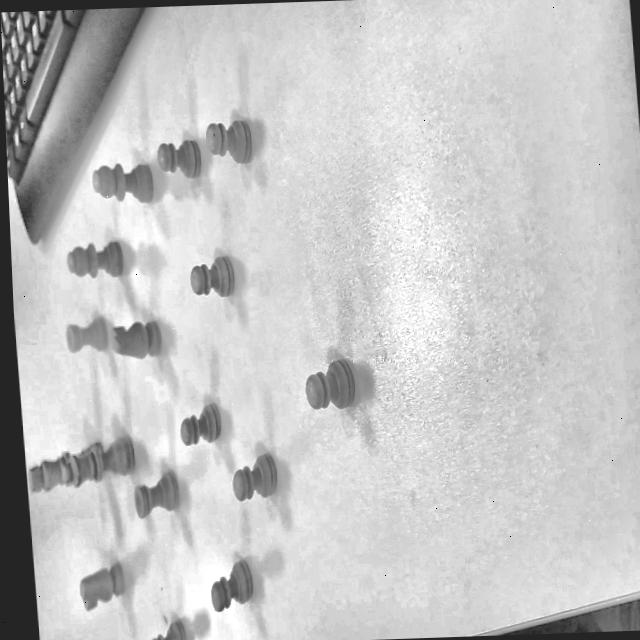white-bishop: (60, 226, 136, 282), (88, 154, 156, 206)
white-king: (23, 423, 108, 504)
white-knight: (76, 546, 130, 614), (107, 305, 168, 363)
white-pawn: (295, 332, 372, 418), (199, 87, 265, 172), (187, 236, 250, 308), (203, 547, 261, 623), (227, 443, 287, 506), (174, 388, 228, 458), (153, 132, 207, 186), (145, 608, 190, 640)
white-queen: (58, 420, 135, 498)
white-rook: (130, 462, 186, 524), (58, 304, 110, 358)
